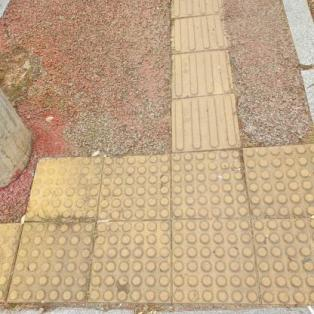Podoctatil: (0, 141, 313, 309), (163, 0, 250, 153)
